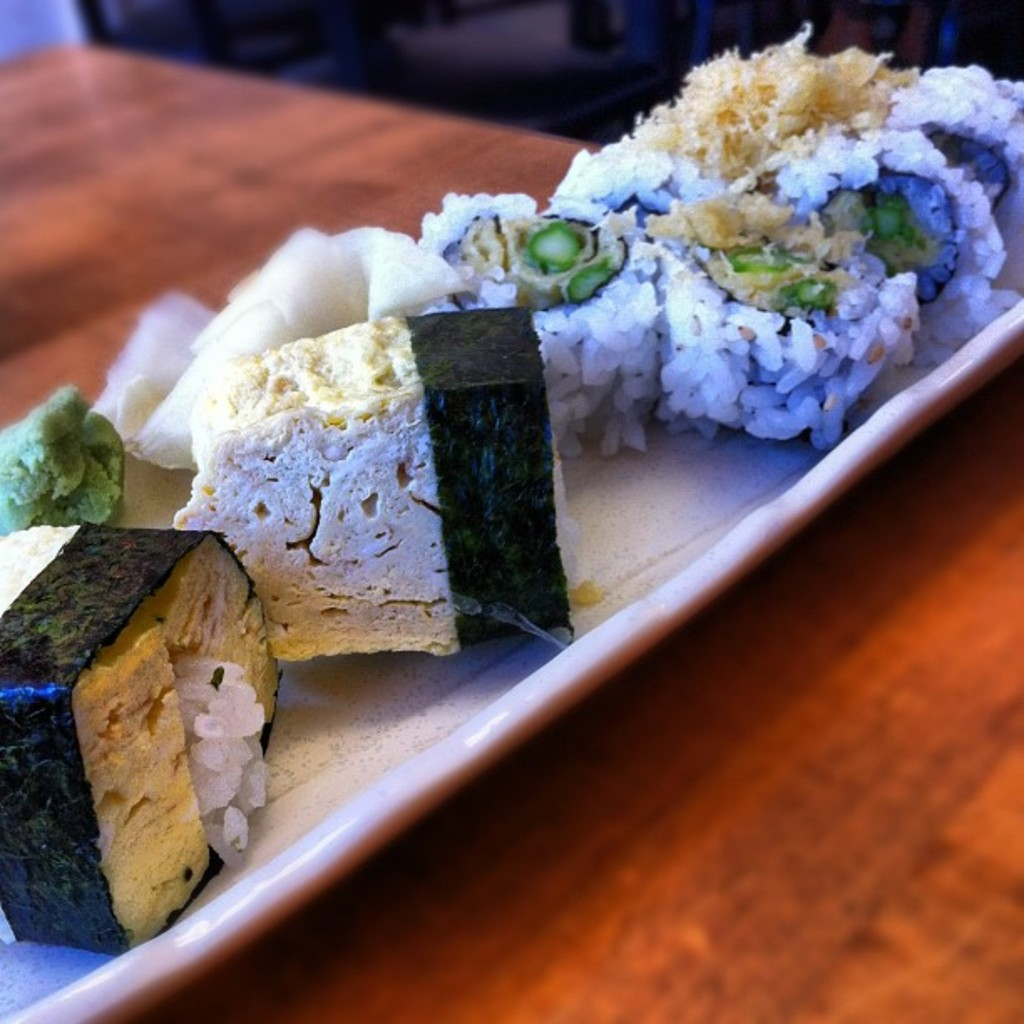sushi: (0, 22, 1022, 964), (532, 38, 1021, 468), (0, 509, 294, 925)
